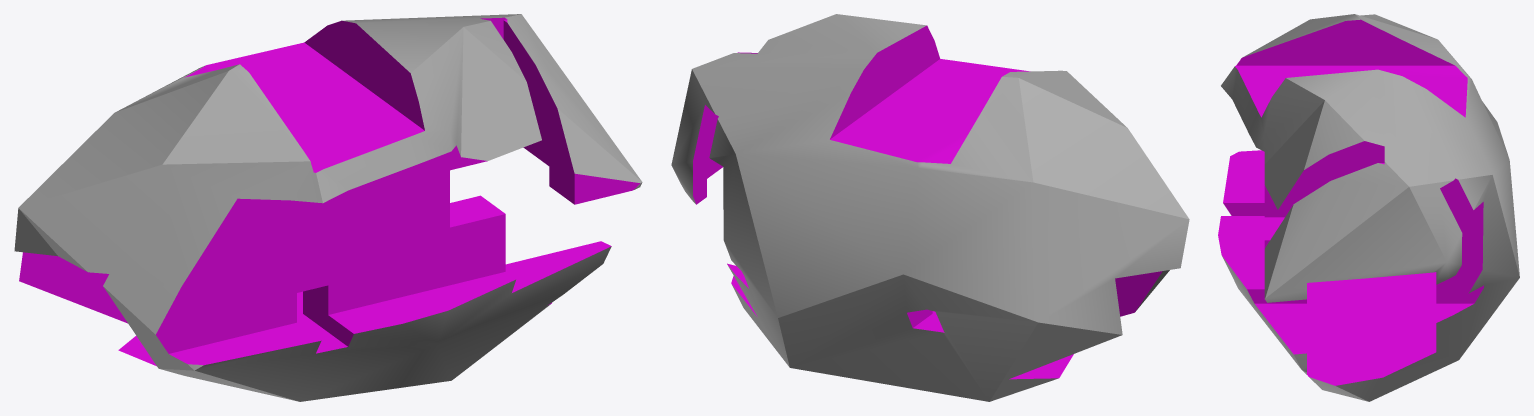
File: Boulder_4_Glitch.fbx
The picture shows the model from 3 angles, left to right: view 1: azimuth 30°, elevation 25°; view 2: azimuth 150°, elevation 25°; view 3: azimuth 270°, elevation 25°; orthographic projection. The views are drawn at different scales.
Visible parts, largest first — view 1: Boulder_4_Glitch; view 2: Boulder_4_Glitch; view 3: Boulder_4_Glitch.
Part boxes in pixels (x1,y1,x2,y2): Boulder_4_Glitch: [14, 14, 642, 401]; Boulder_4_Glitch: [671, 14, 1189, 401]; Boulder_4_Glitch: [1218, 14, 1519, 401].
Bounding box in the file's own units: 6.8 × 4.06 × 3.76.
